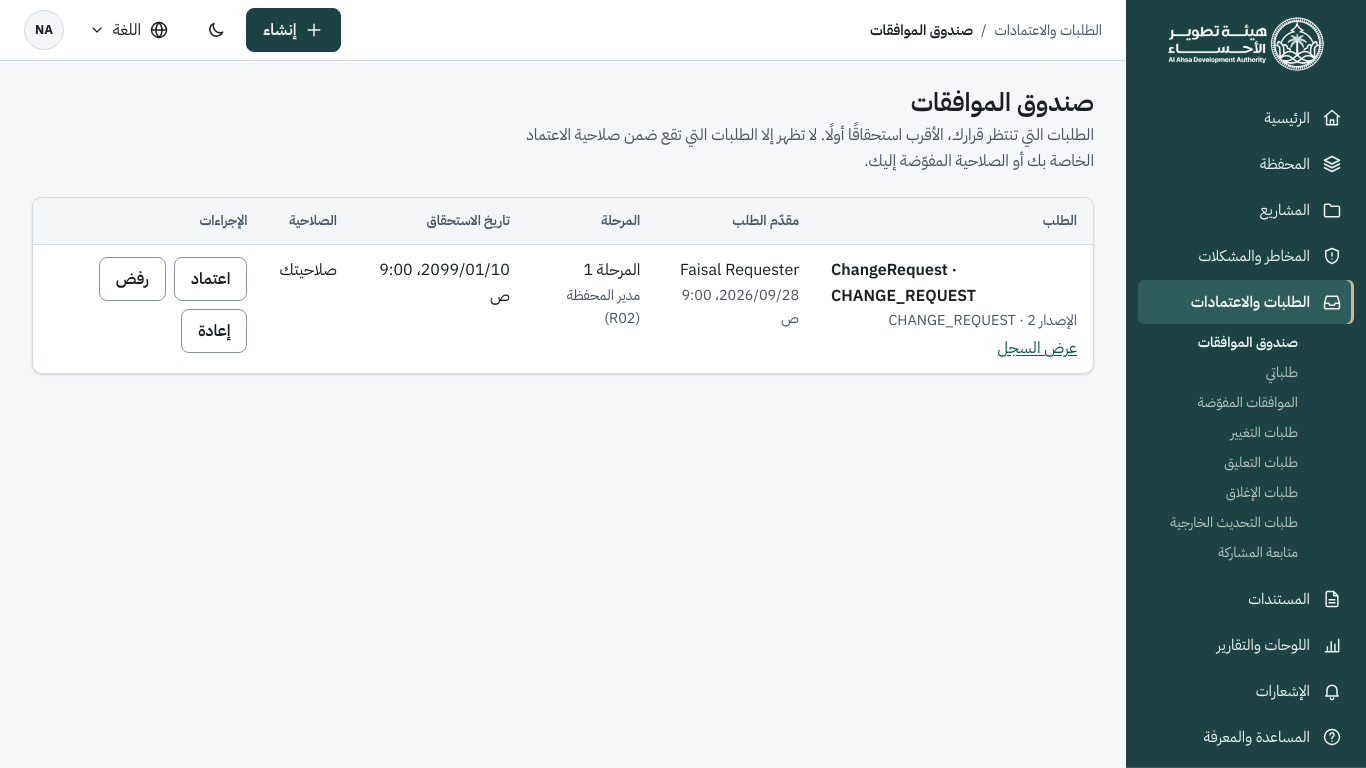
it: MOD-041 reject and MOD-042 return need a reason › a reason written in the Arabic interface is tagged ar
This screenshot has width=1366, height=768.
Click the button "إعادة" at point(214, 331), box x1=181 y1=309 x2=247 y2=353
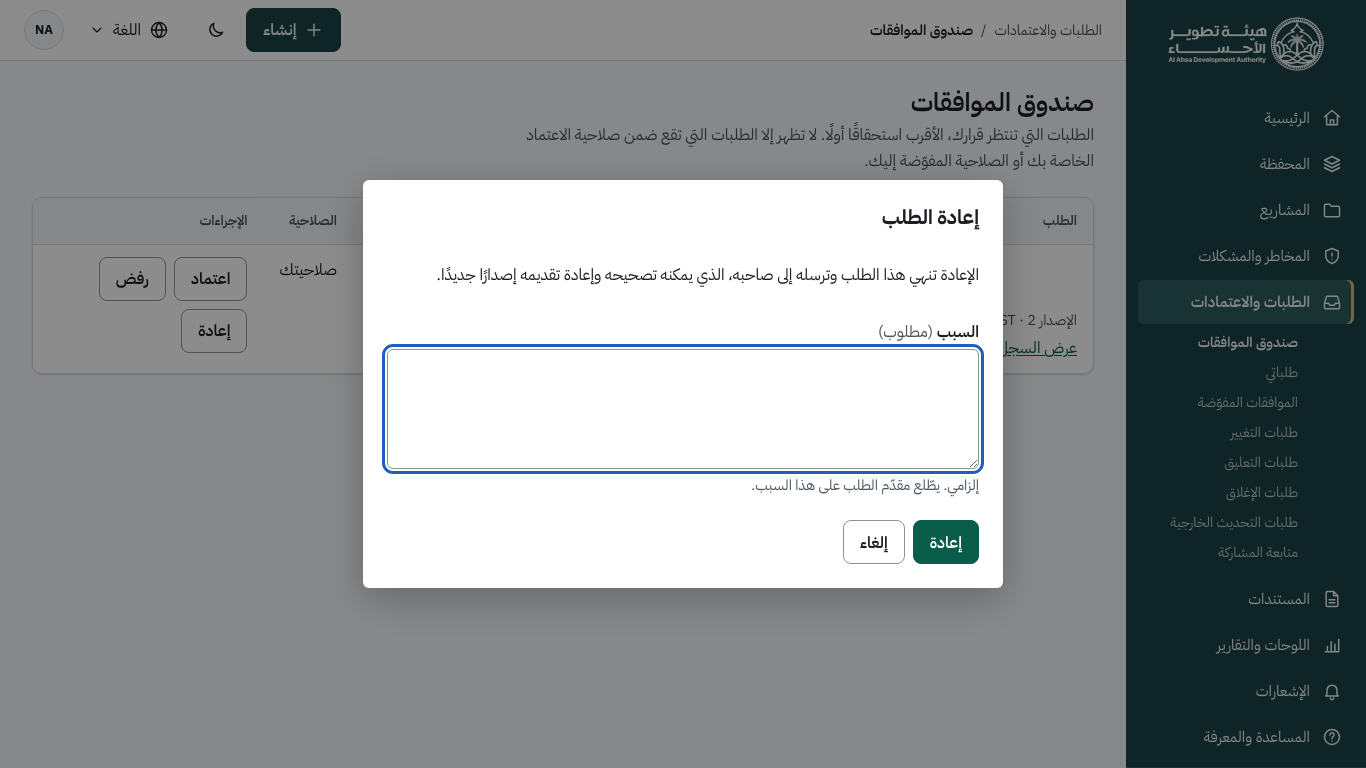
Type "يلزم تحديث الجدول الزمني." into the text box labelled "السبب (مطلوب)" at point(683, 409), box x1=387 y1=349 x2=979 y2=469
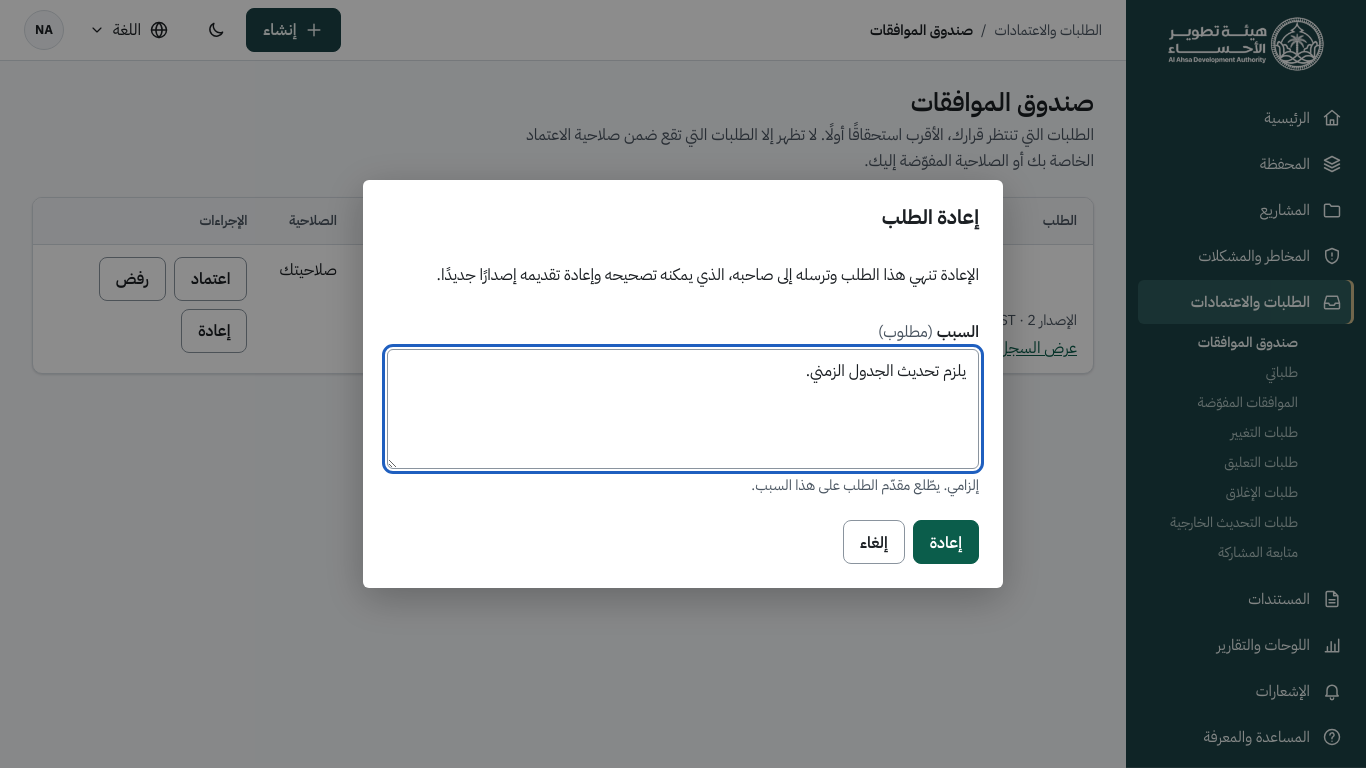
Click the button "إعادة" at point(946, 542), box x1=913 y1=520 x2=979 y2=564
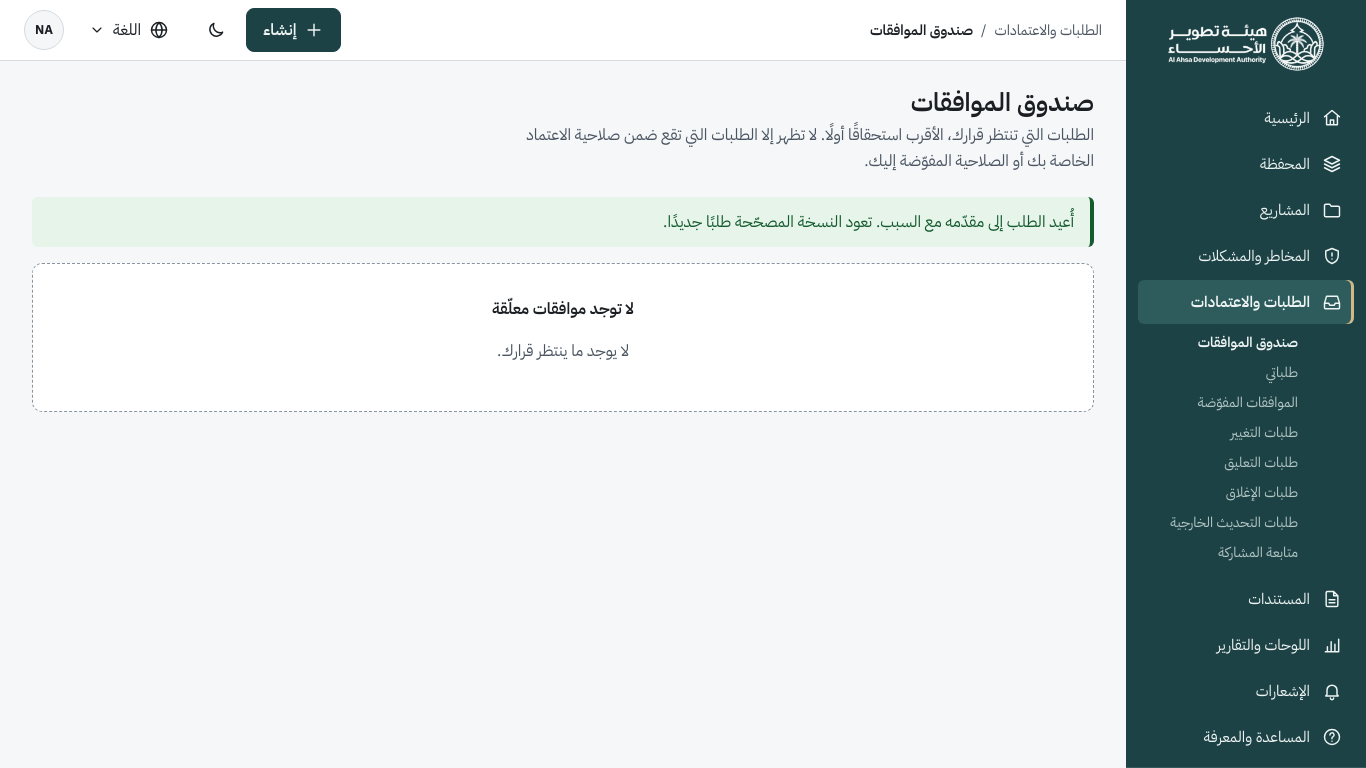
Expected: the text "أُعيد الطلب إلى مقدّمه مع السبب. تعود النسخة المصحّحة طلبًا جديدًا." is shown, x1=32 y1=198 x2=1094 y2=247
